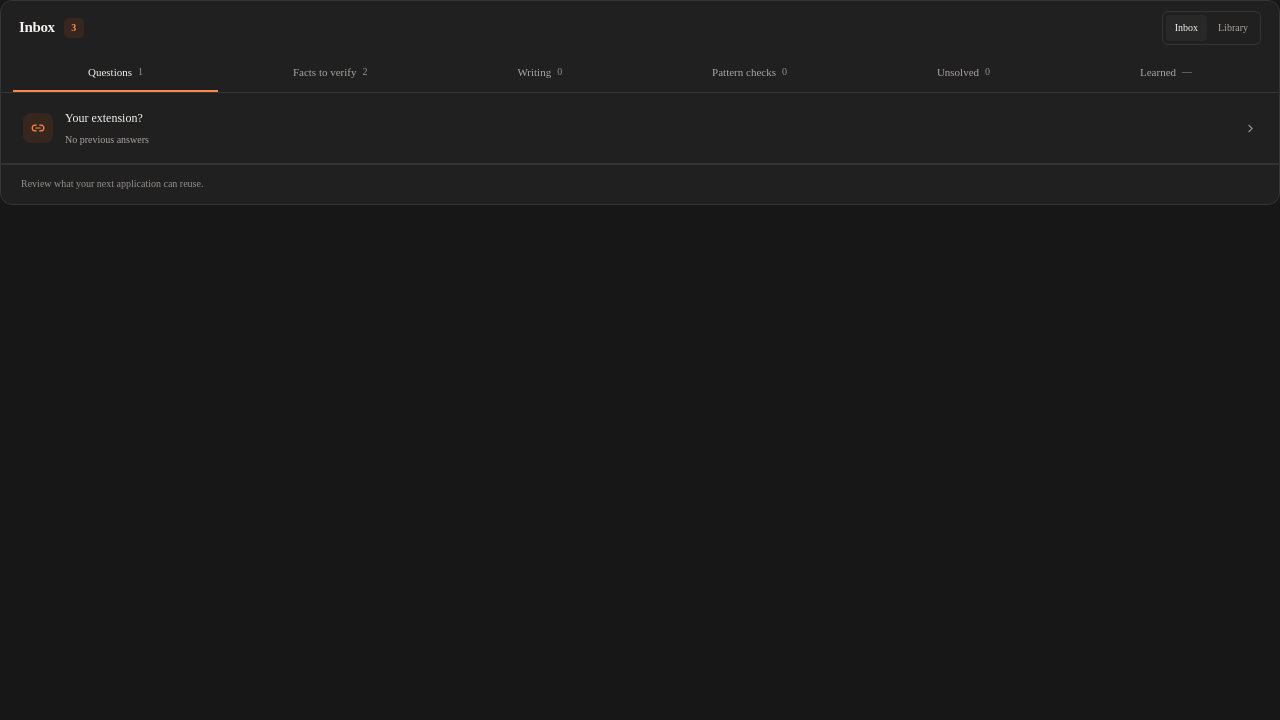
it: Library renders item verification history and code fix details
Click the button "Library": (1233, 28) left=1209, top=15, right=1257, bottom=41
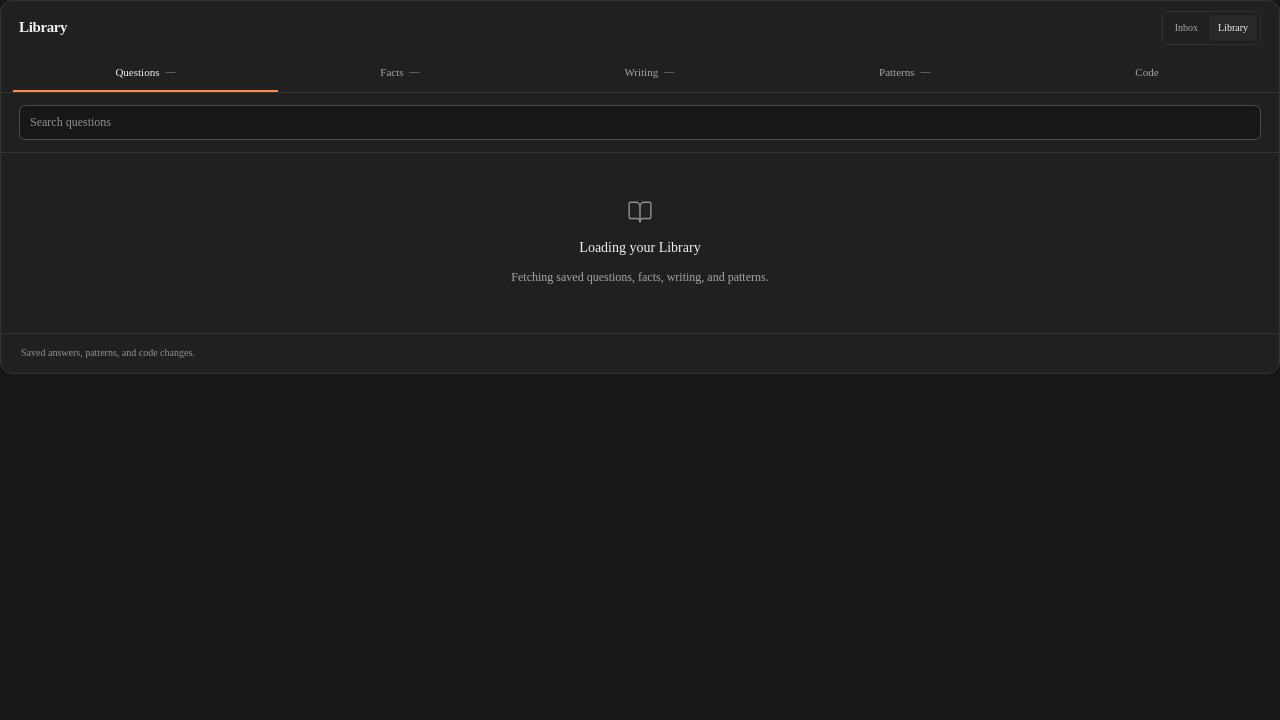
Click the button "Patterns —": (905, 74) left=777, top=55, right=1033, bottom=92
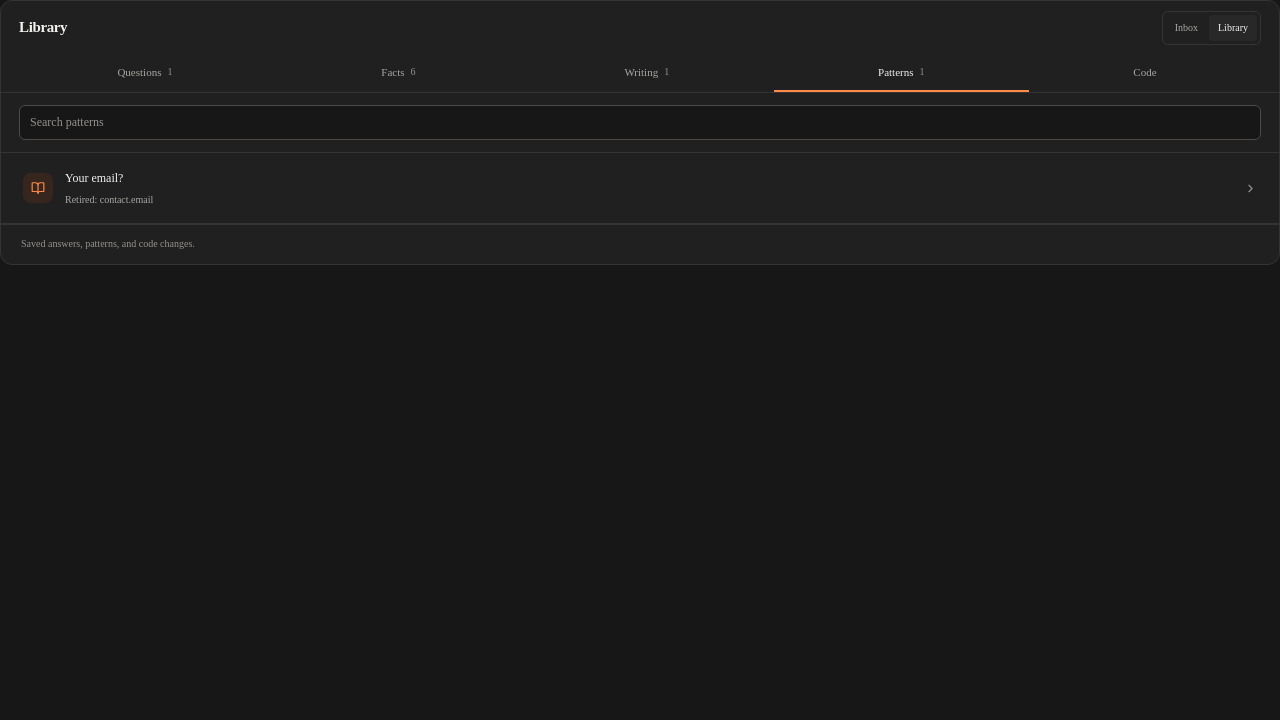
Click the button with aria-label "View Your email?": (94, 178) left=1, top=153, right=1279, bottom=224
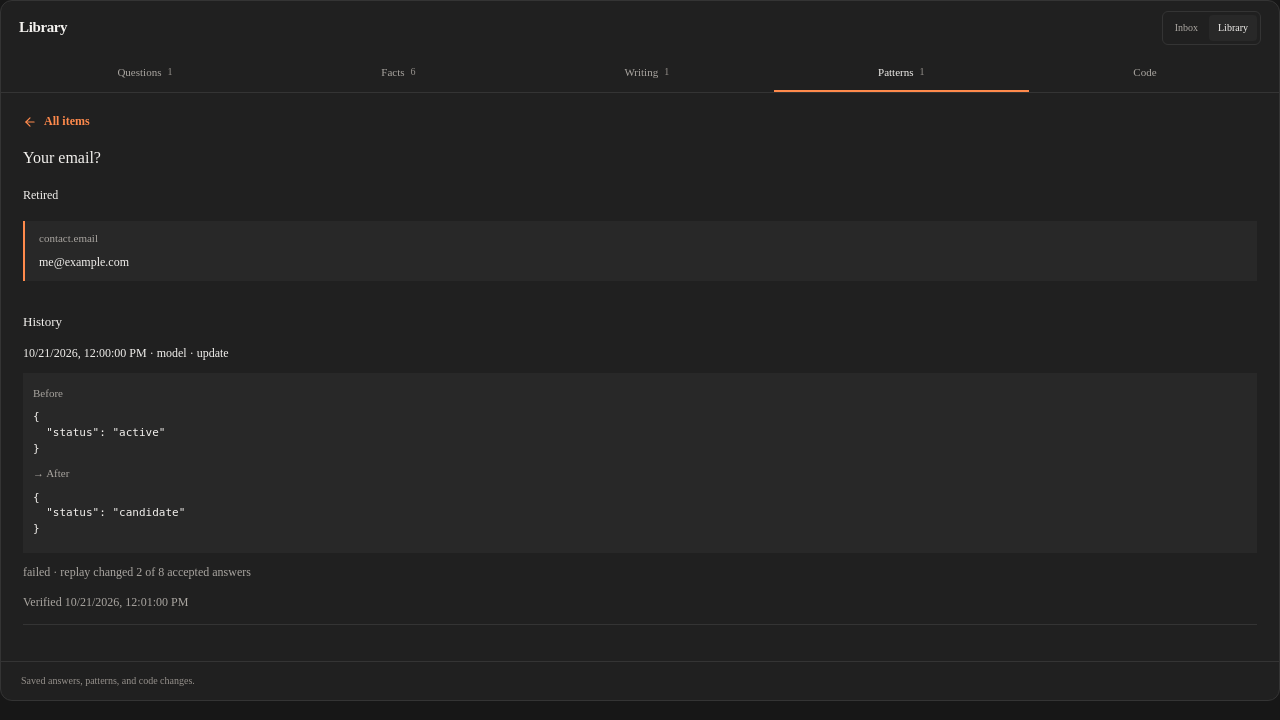
Result: the text "replay changed 2 of 8 accepted answers" is shown at left=60, top=565, right=251, bottom=579
Result: the text "10/21/2026, 12:00:00 PM · model · update" is shown at left=23, top=346, right=229, bottom=360
Click the button "Code": (1148, 74) left=1029, top=55, right=1267, bottom=92
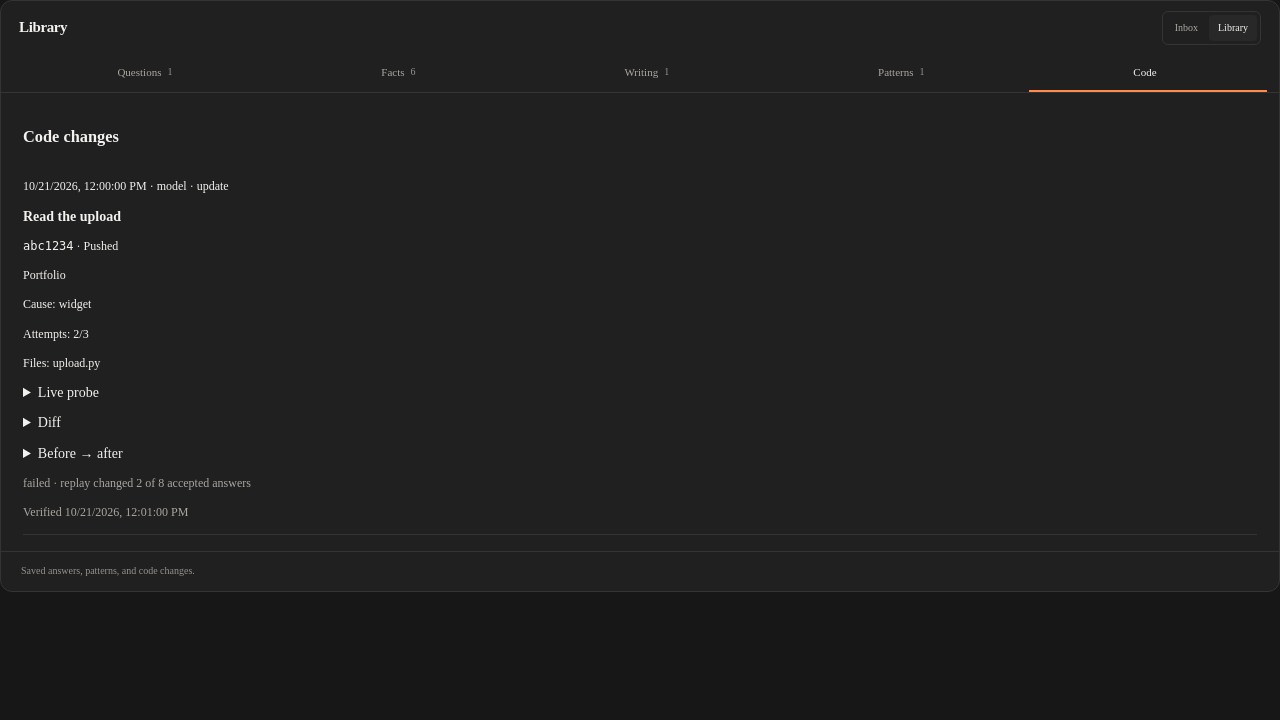
Result: the text "Read the upload" is shown at left=23, top=209, right=121, bottom=224
Result: the text "abc1234" is shown at left=23, top=239, right=74, bottom=253
